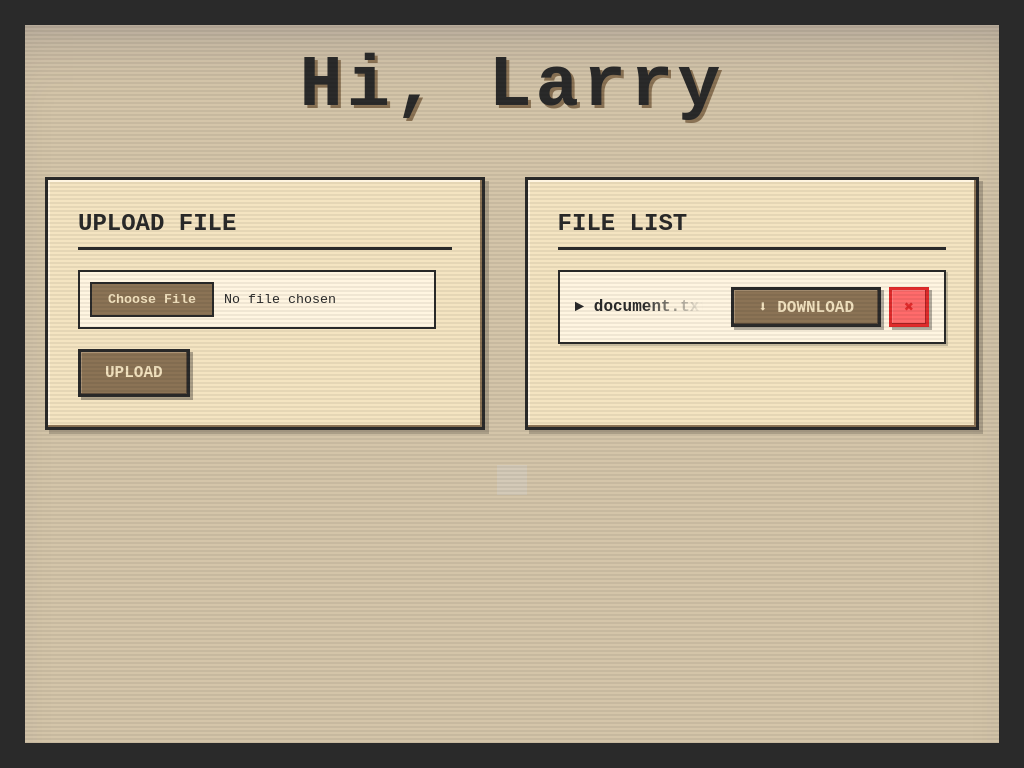
Test: App › displays error message when metadata edit fails
Click the text "► document.txt". click: click(639, 307)
box: x1=575 y1=298 x2=703 y2=316
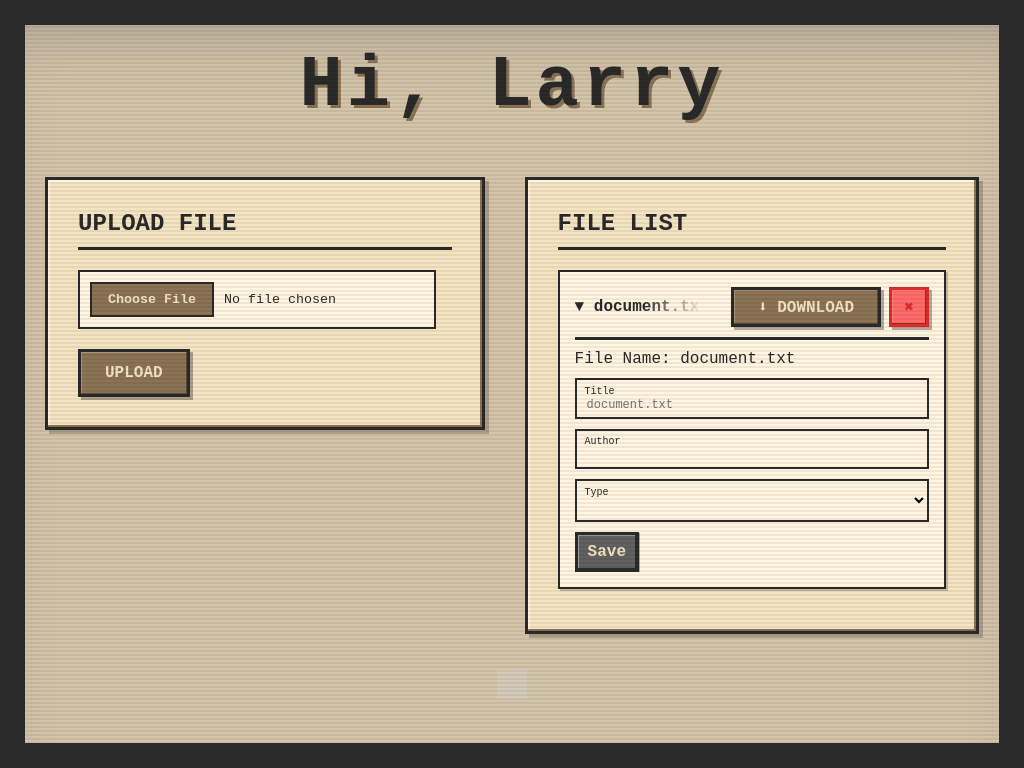
Type "My Title" into the field labelled "Title". click: (752, 398)
box: x1=575 y1=378 x2=929 y2=418
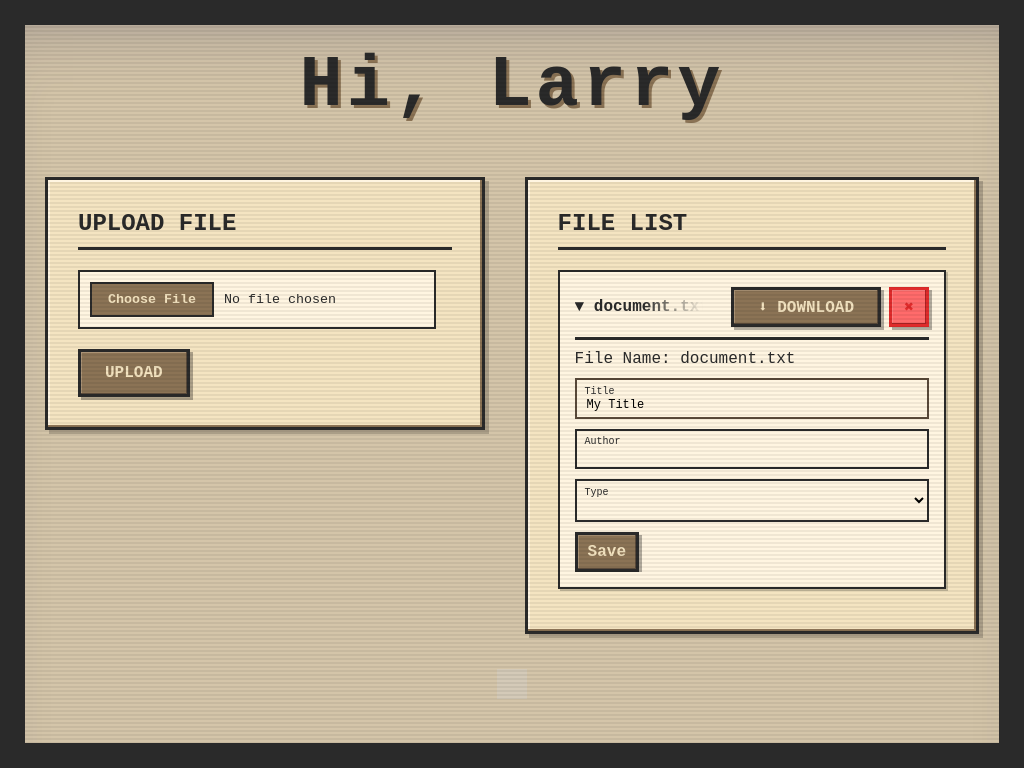
Click the button "Save". click: click(607, 552)
box: x1=575 y1=532 x2=639 y2=572
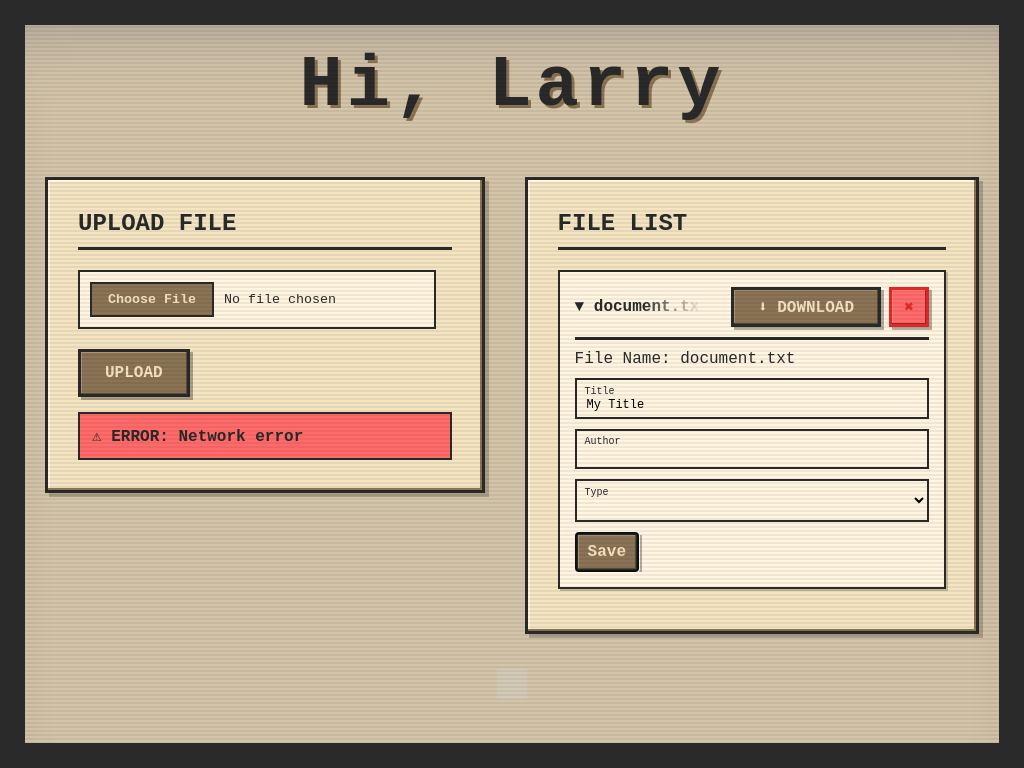
Check: the text "⚠ ERROR: Network error" is shown, box x1=92 y1=428 x2=303 y2=446
